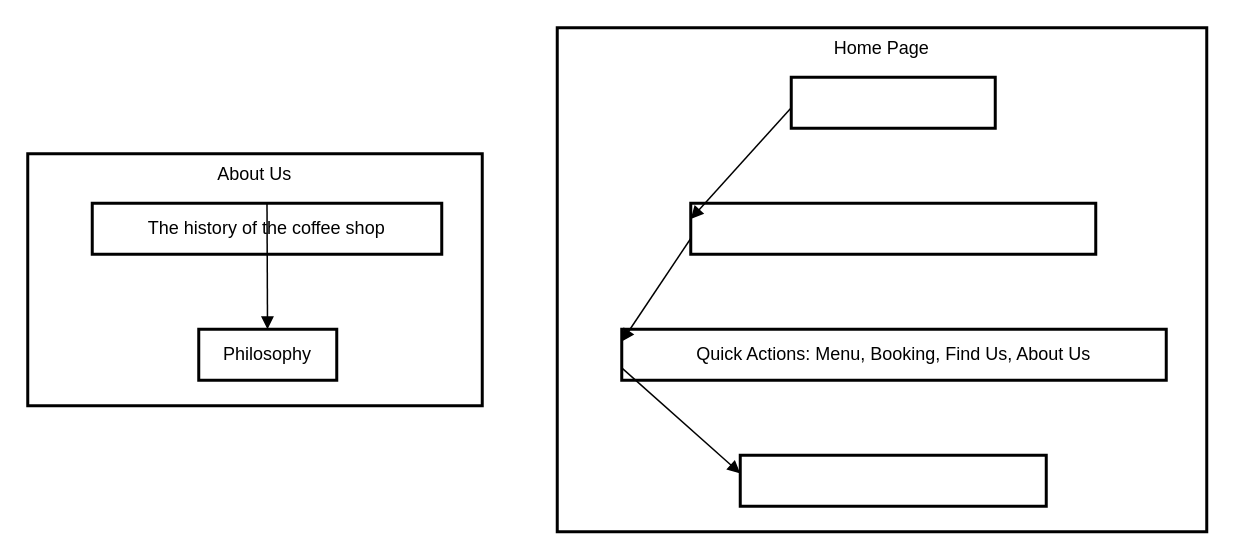
Image size: 1233x558. Some labels were removed from this diagram. The centre of each missing label's shape, as x and y in pixels:
Brief description of the coffee shop: pixel 892 228
Promotions and new items: pixel 892 480
Welcome banner: pixel 892 102
